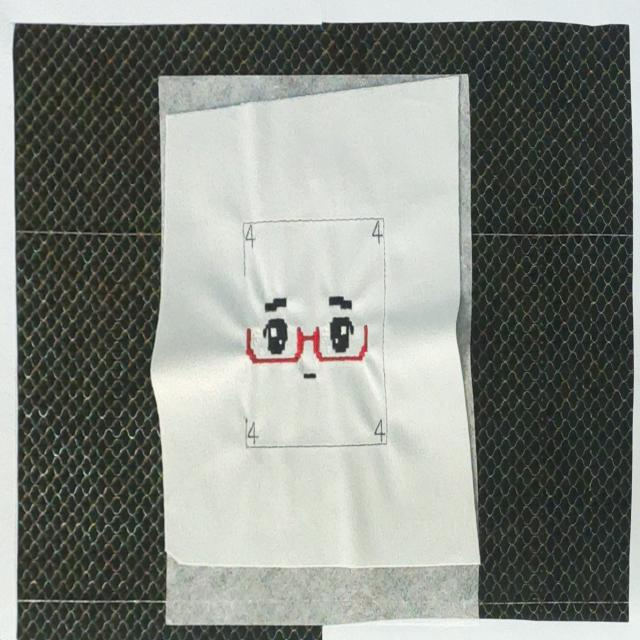4 -: (373, 414, 387, 444), (244, 222, 258, 251), (248, 416, 260, 446), (371, 220, 384, 246)
